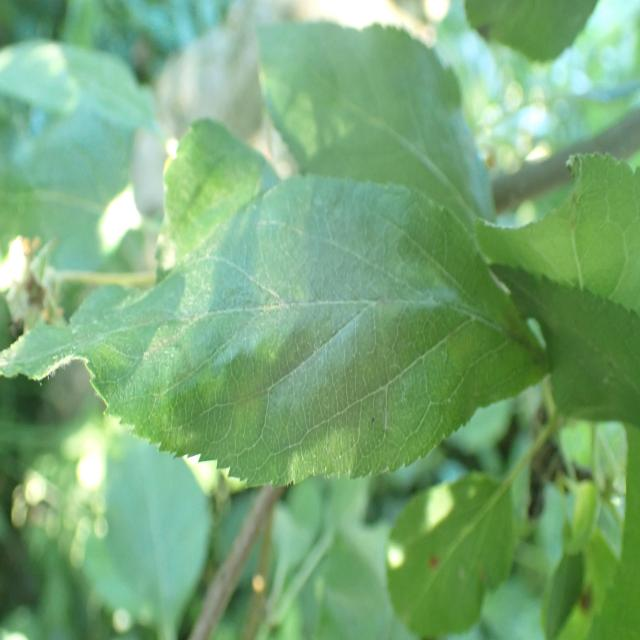scab: (85, 218, 510, 495)
